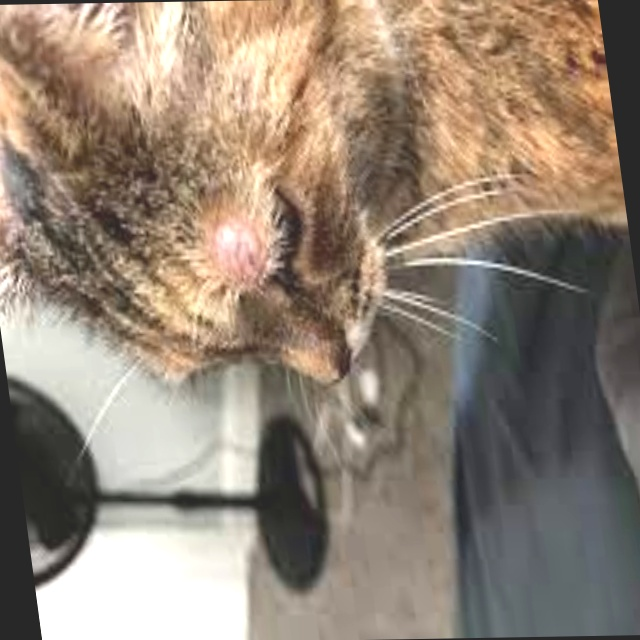lump_and_bump: (198, 215, 278, 299)
